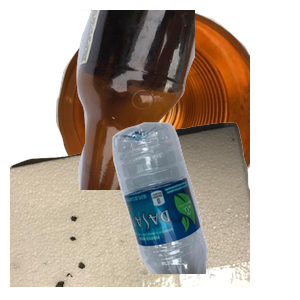glass: (60, 10, 300, 190)
metal: (53, 10, 293, 190)
plastic: (110, 120, 300, 300)
trash: (10, 120, 250, 300)
